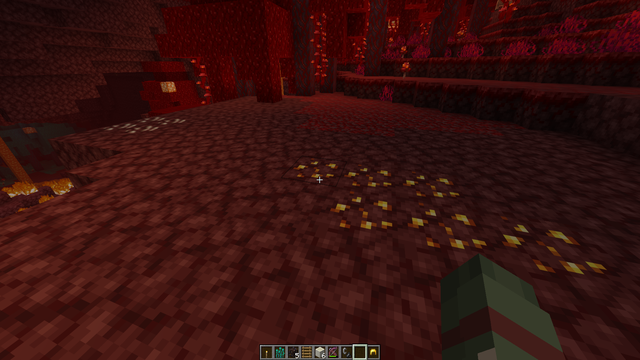nethergold: (279, 153, 614, 286)
quartz: (101, 113, 186, 136)
